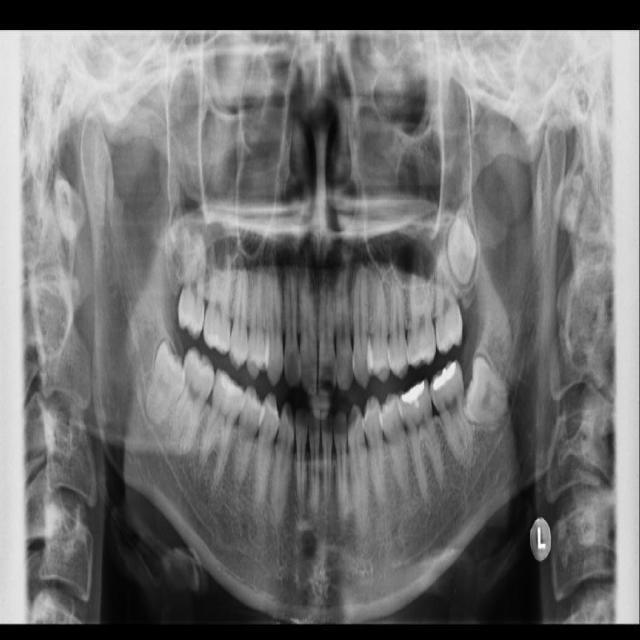Filling: (432, 361, 458, 391), (401, 381, 428, 407)
impacted tooth: (144, 343, 184, 423), (465, 356, 510, 424), (450, 199, 474, 283)
